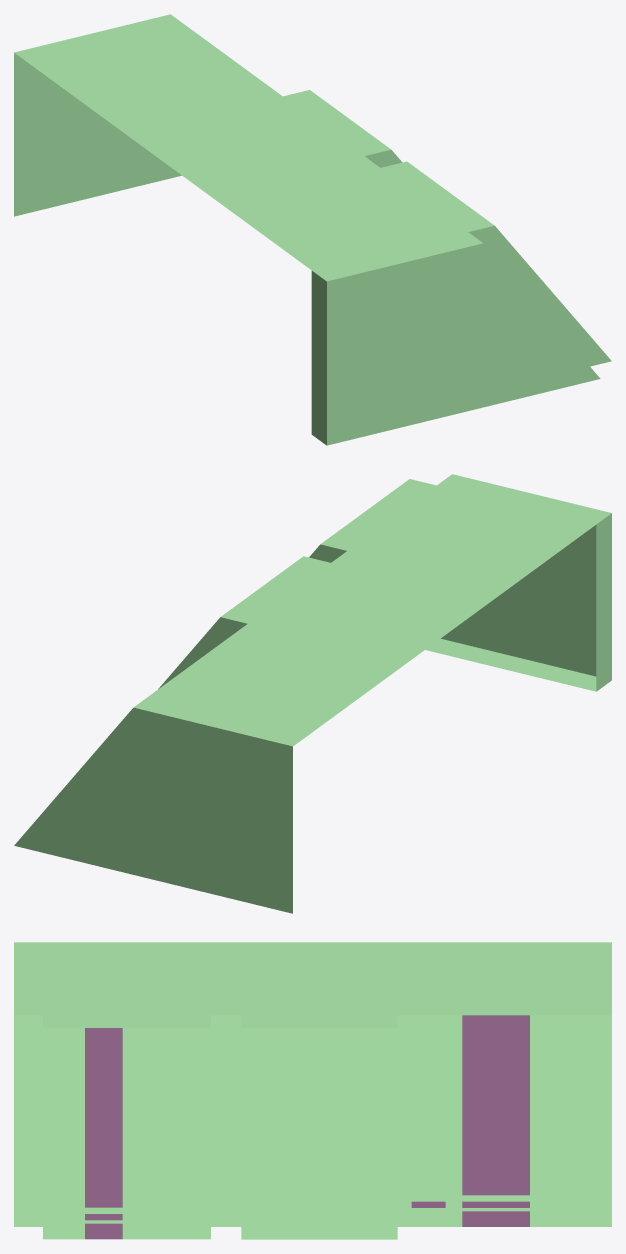
The model's file is building3.glb.
The picture shows the model from 3 angles, top to bottom: view 1: azimuth 30°, elevation 25°; view 2: azimuth 150°, elevation 25°; view 3: azimuth 270°, elevation 25°; orthographic projection. The views are drawn at different scales.
Visible parts, largest first — view 1: building3; view 2: building3; view 3: building3.
Part boxes in pixels (box(x1,y1,x2,y2)): building3: box(14, 14, 611, 445); building3: box(14, 474, 611, 913); building3: box(14, 942, 611, 1239).
Bounding box in the file's own units: 7.65 × 3.99 × 13.78.
